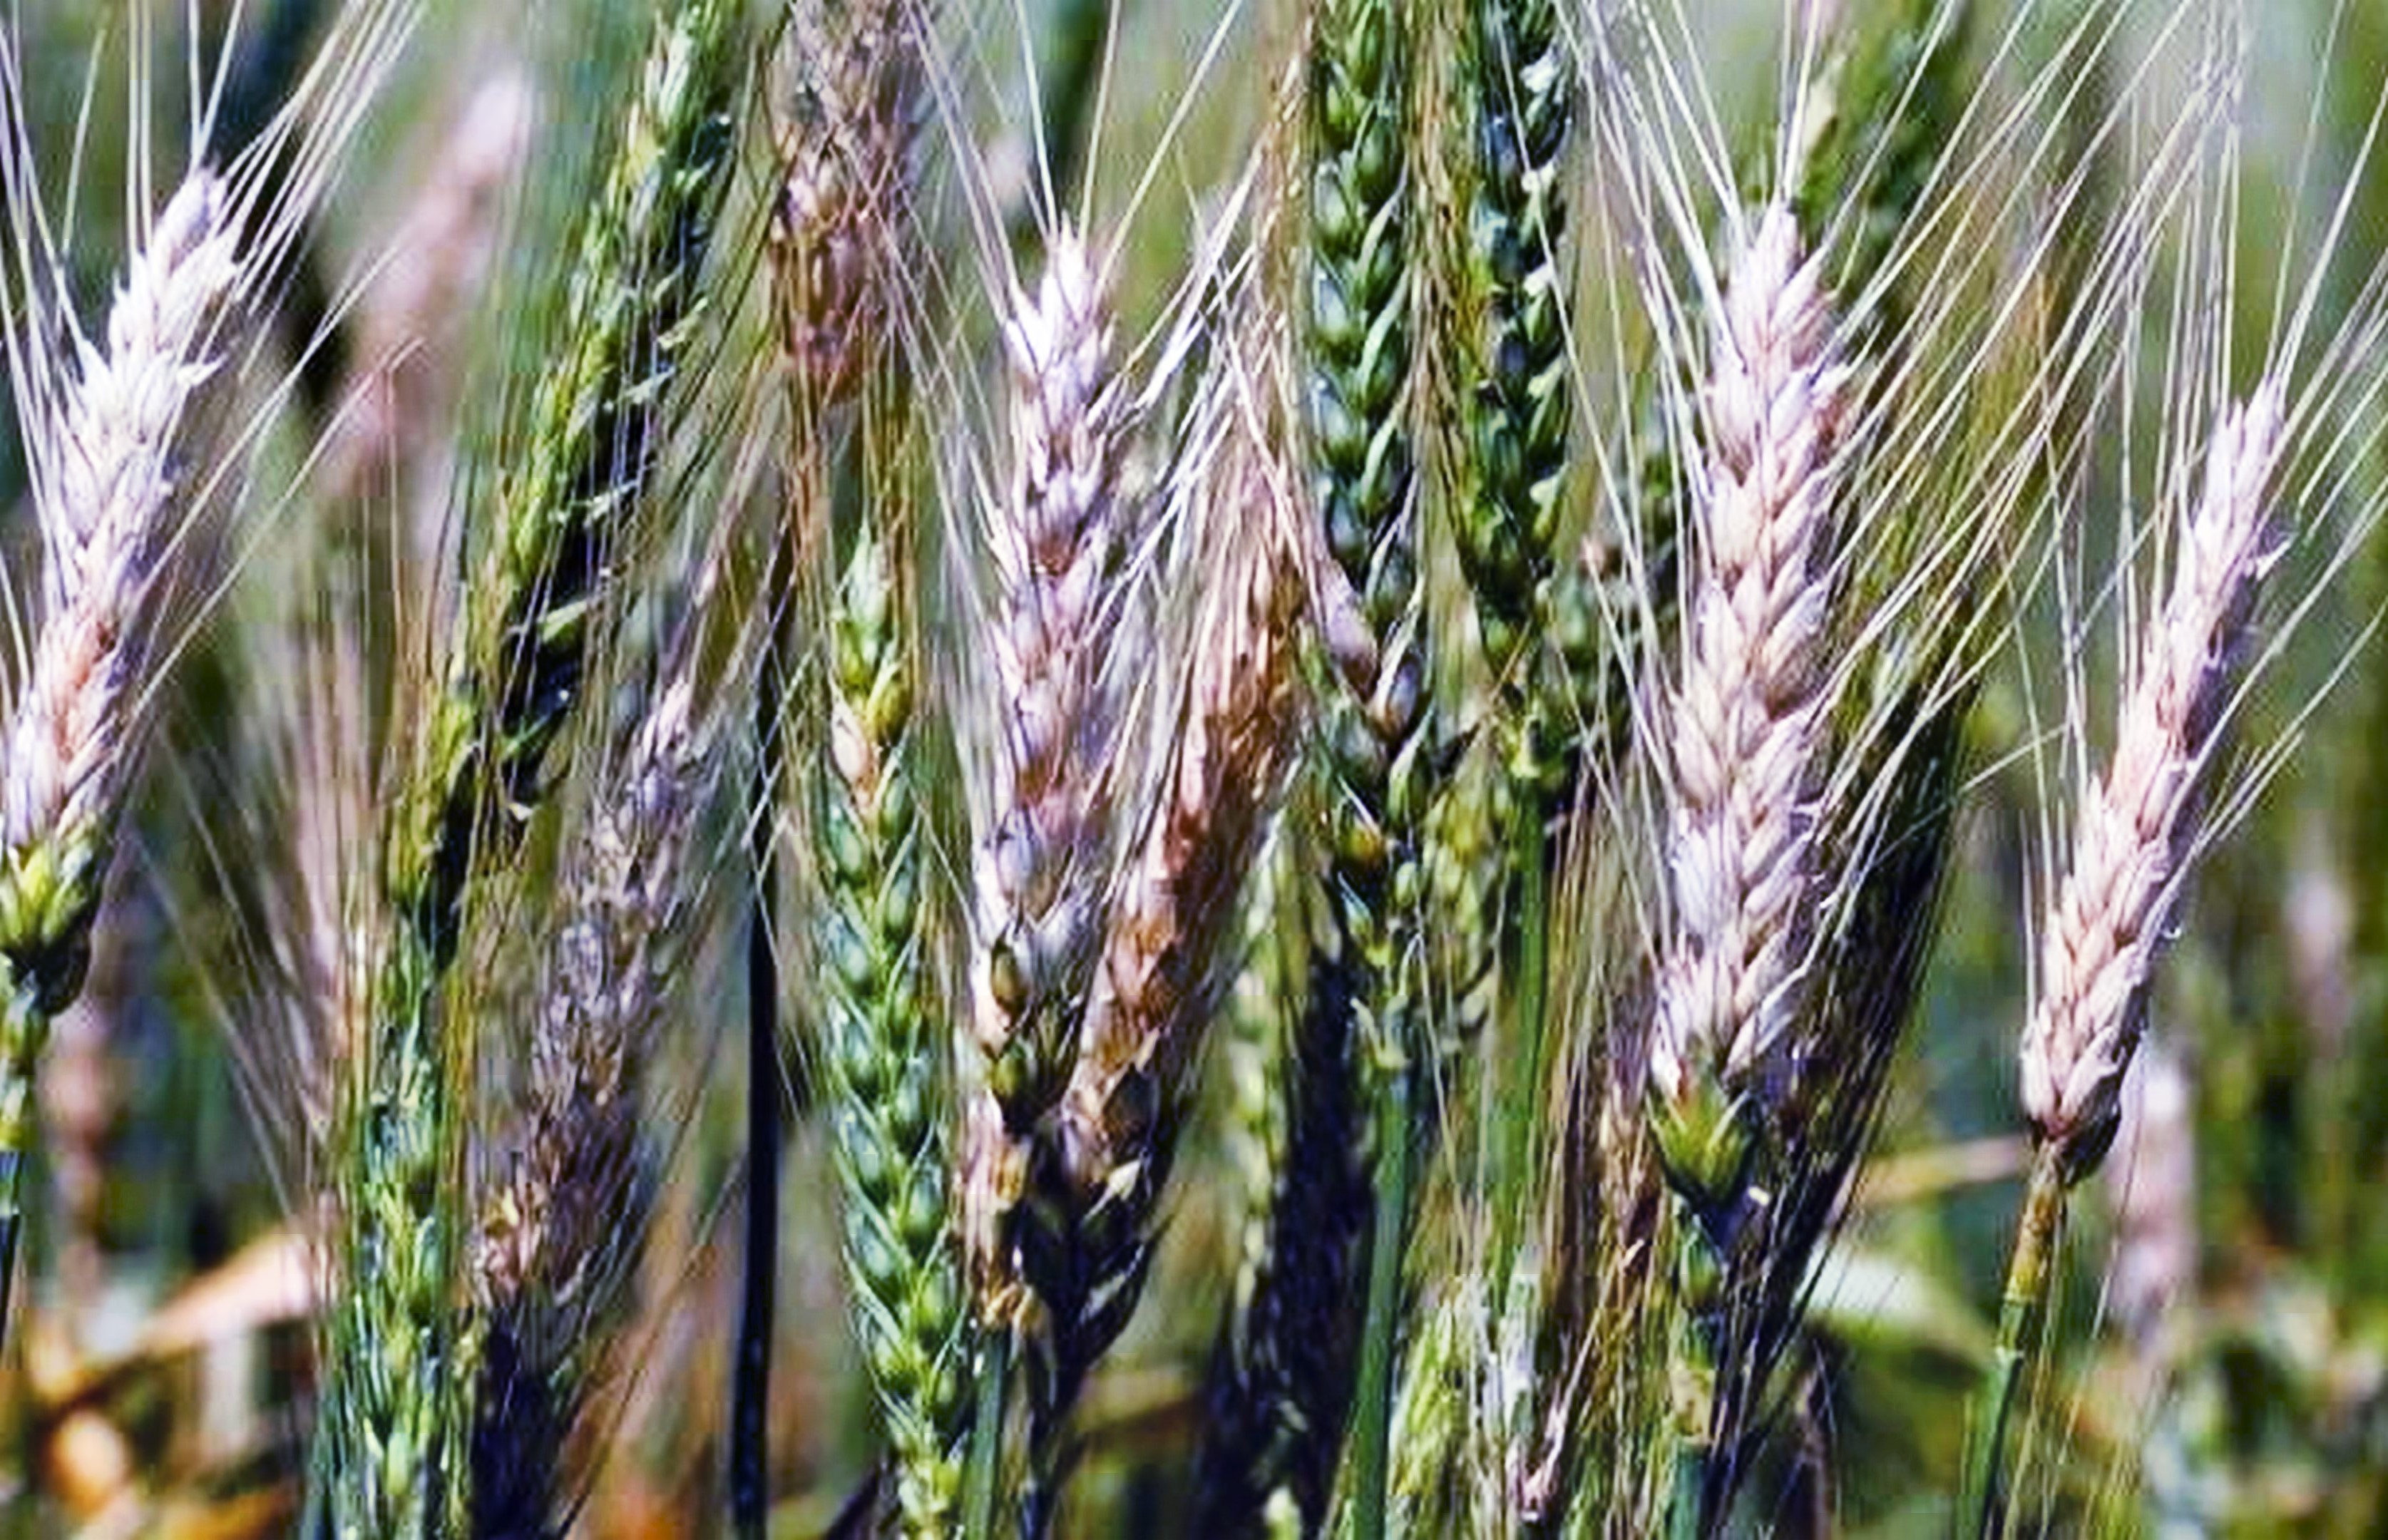Wheat scab: (0, 141, 284, 966), (1647, 219, 1885, 1188)
